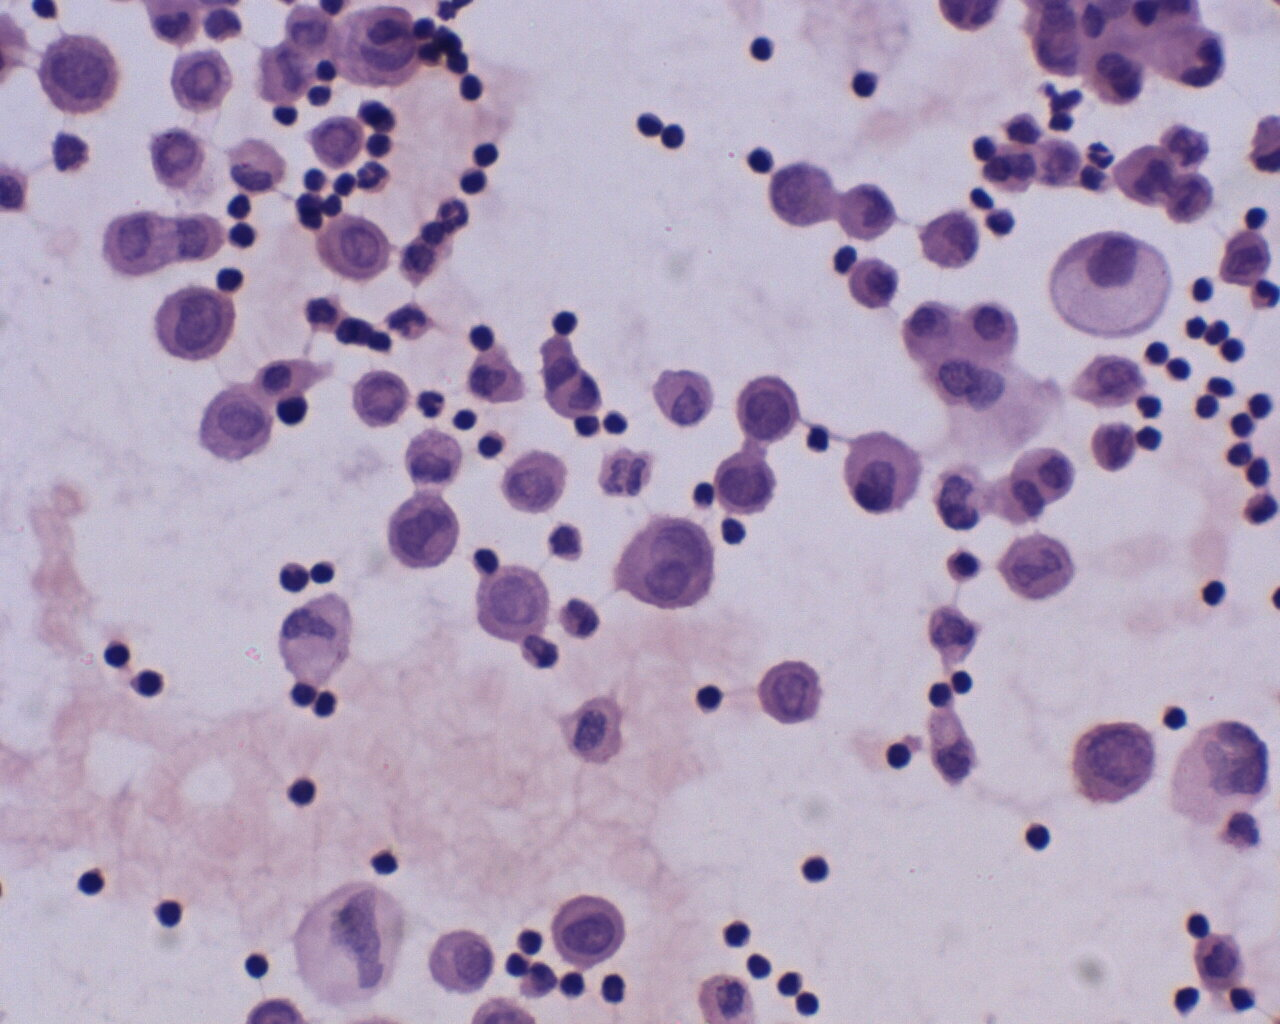ab: (616, 514, 715, 612), (1073, 715, 1153, 808), (36, 28, 122, 112), (153, 279, 238, 362), (550, 889, 633, 970), (752, 656, 830, 727), (315, 213, 393, 280), (501, 444, 572, 513), (168, 44, 235, 114), (717, 447, 774, 520), (735, 375, 800, 439), (303, 109, 366, 172), (349, 369, 416, 427)
histo: (1044, 226, 1173, 339)
lymph: (126, 664, 169, 704), (70, 862, 111, 904), (798, 850, 834, 889), (152, 897, 188, 934), (472, 430, 513, 462), (242, 947, 276, 981), (743, 142, 775, 177), (630, 106, 662, 140), (885, 734, 913, 771), (284, 775, 318, 807), (453, 72, 487, 103), (850, 69, 880, 100), (748, 33, 779, 63), (471, 138, 503, 167), (1025, 818, 1051, 852)
meso: (962, 297, 1022, 366)
neutro: (413, 385, 453, 425)
